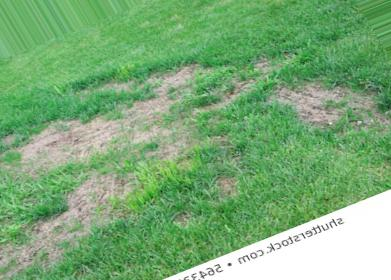patch: (95, 99, 155, 136), (64, 175, 124, 211), (37, 121, 87, 154), (126, 140, 193, 164), (167, 82, 201, 125), (206, 174, 246, 209), (289, 90, 348, 113), (38, 219, 66, 243), (12, 243, 33, 268), (167, 211, 193, 227), (264, 64, 297, 75)
